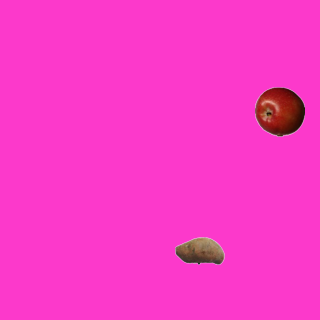Apple Braeburn: (254, 86, 304, 136)
Potato Sweet: (174, 225, 224, 275)
